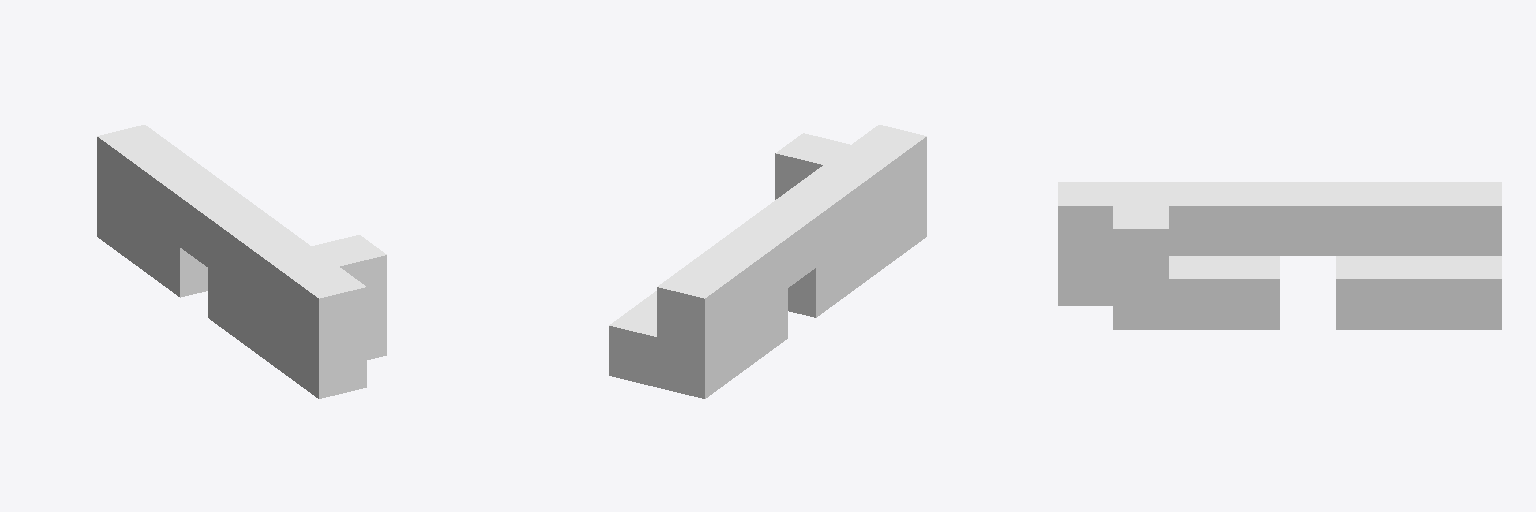
Rendered from johnnyArmRight.obj.
3 views of the same model, side by side, from view 1: azimuth 30°, elevation 25°; view 2: azimuth 150°, elevation 25°; view 3: azimuth 270°, elevation 25° (orthographic).
Parts seen in each view (by area): view 1: johnnyArmRight; view 2: johnnyArmRight; view 3: johnnyArmRight.
Part boxes in pixels (x1,y1,x2,y2): johnnyArmRight: (97, 125, 386, 398); johnnyArmRight: (609, 125, 926, 398); johnnyArmRight: (1058, 182, 1501, 329).
Bounding box in the file's own units: 2 × 2 × 8.